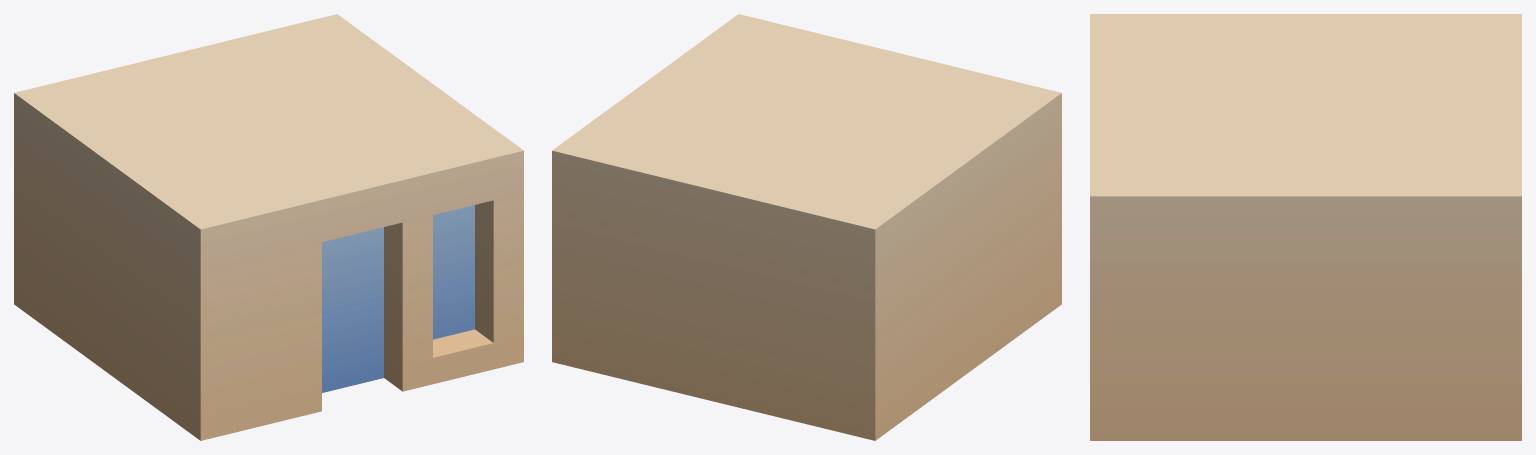
The model's file is kenney-modular-buildings-building-door-window-narrow.glb.
3 renders of one model, left to right at view 1: azimuth 30°, elevation 25°; view 2: azimuth 150°, elevation 25°; view 3: azimuth 270°, elevation 25°, orthographic. The views are drawn at different scales.
Parts seen in each view (by area): view 1: building-door-window-narrow; view 2: building-door-window-narrow; view 3: building-door-window-narrow.
Part boxes in pixels (<box>): building-door-window-narrow: <box>14,14,523,440</box>; building-door-window-narrow: <box>552,14,1061,440</box>; building-door-window-narrow: <box>1090,14,1521,440</box>.
Size of the model in its own units: 1 by 0.625 by 1.
1 material, 1 textured.
